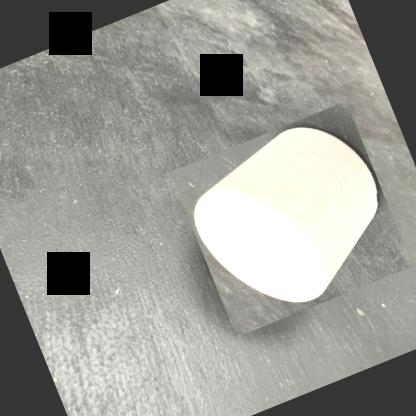white cylinder: (170, 100, 412, 336)
